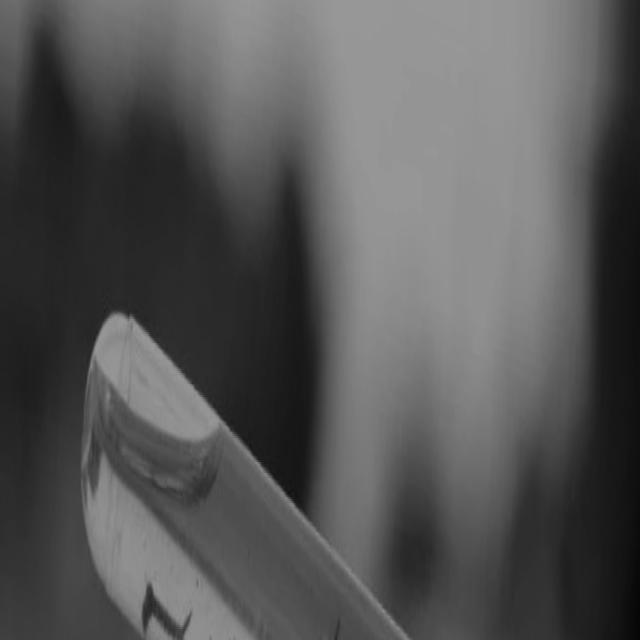larvas: (141, 587, 189, 640)
